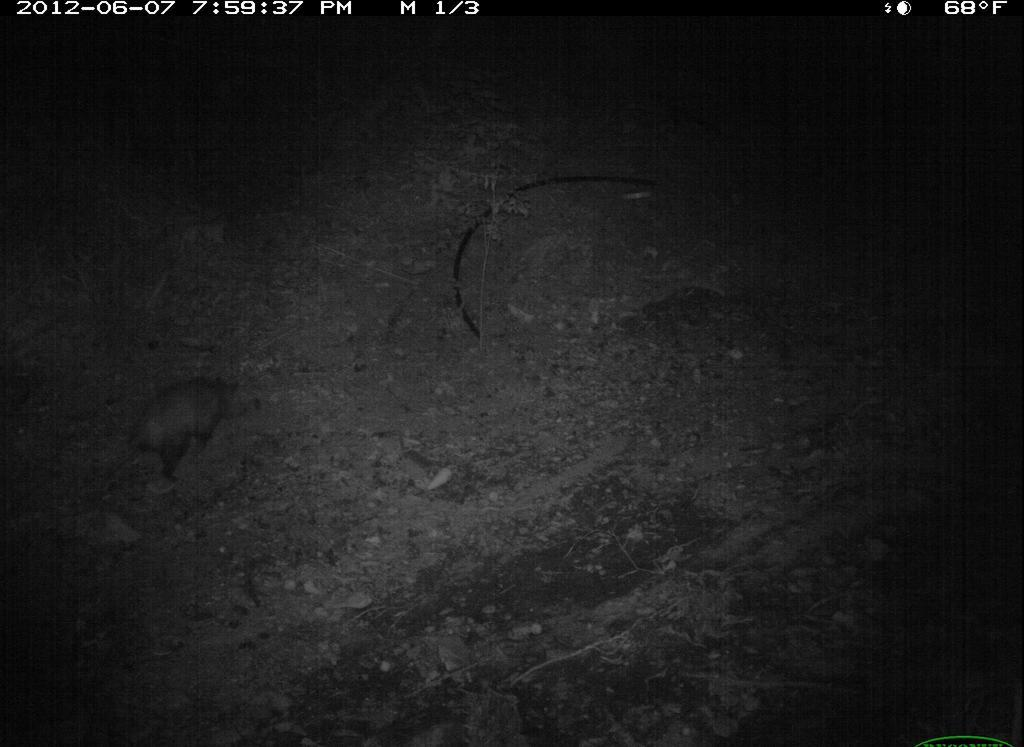opossum: (98, 373, 250, 495)
